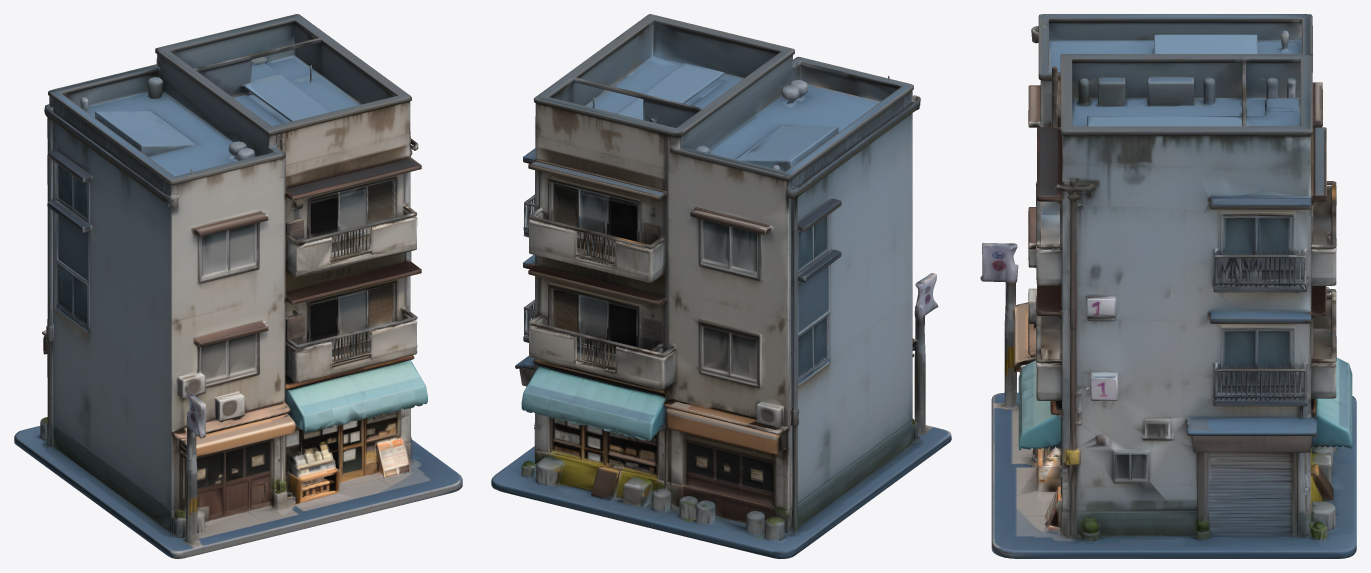
Rendered from building-1.glb.
The picture shows the model from 3 angles, left to right: view 1: azimuth 30°, elevation 25°; view 2: azimuth 150°, elevation 25°; view 3: azimuth 270°, elevation 25°; orthographic projection. The views are drawn at different scales.
Parts seen in each view (by area): view 1: node_0; view 2: node_0; view 3: node_0.
Boxes of the visible parts, <box> form: node_0: <box>14,14,462,558</box>; node_0: <box>491,14,951,558</box>; node_0: <box>980,14,1356,558</box>.
Size of the model in its own units: 0.659 by 0.7956 by 0.6562.
1 material, 1 textured.
